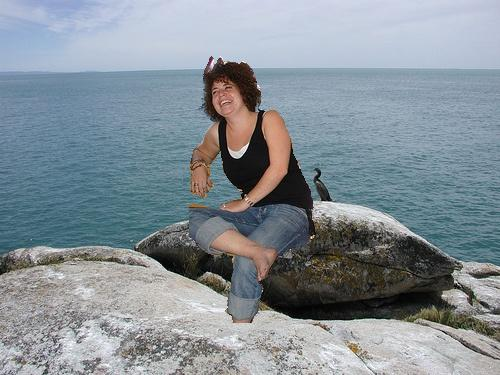tampered: (190, 57, 315, 323)
